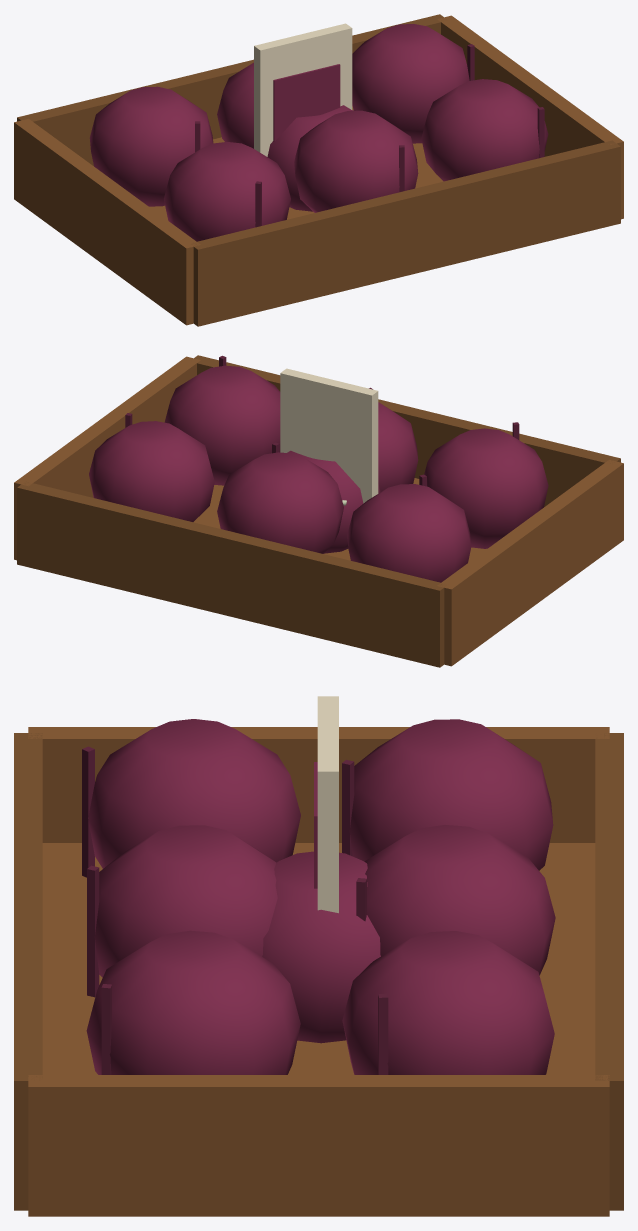
The model's file is Fruit_Plum.fbx.
3 views of the same model, one above another, from view 1: azimuth 30°, elevation 25°; view 2: azimuth 150°, elevation 25°; view 3: azimuth 270°, elevation 25° (orthographic). The views are drawn at different scales.
Visible parts, largest first — view 1: Fruit_Plum__Stack, Fruit_Plum__Seed, Fruit_Plum; view 2: Fruit_Plum__Stack, Fruit_Plum__Seed, Fruit_Plum; view 3: Fruit_Plum__Stack, Fruit_Plum, Fruit_Plum__Seed.
Boxes of the visible parts, x1=… form: Fruit_Plum__Stack: x1=14, y1=14, x2=623, y2=326; Fruit_Plum__Seed: x1=254, y1=23, x2=352, y2=156; Fruit_Plum: x1=267, y1=105, x2=353, y2=211; Fruit_Plum__Stack: x1=14, y1=355, x2=623, y2=667; Fruit_Plum__Seed: x1=280, y1=368, x2=378, y2=503; Fruit_Plum: x1=287, y1=450, x2=380, y2=553; Fruit_Plum__Stack: x1=14, y1=719, x2=623, y2=1216; Fruit_Plum: x1=262, y1=851, x2=380, y2=1043; Fruit_Plum__Seed: x1=314, y1=696, x2=338, y2=913.
Size of the model in its own units: 0.238 by 0.09 by 0.1704.
